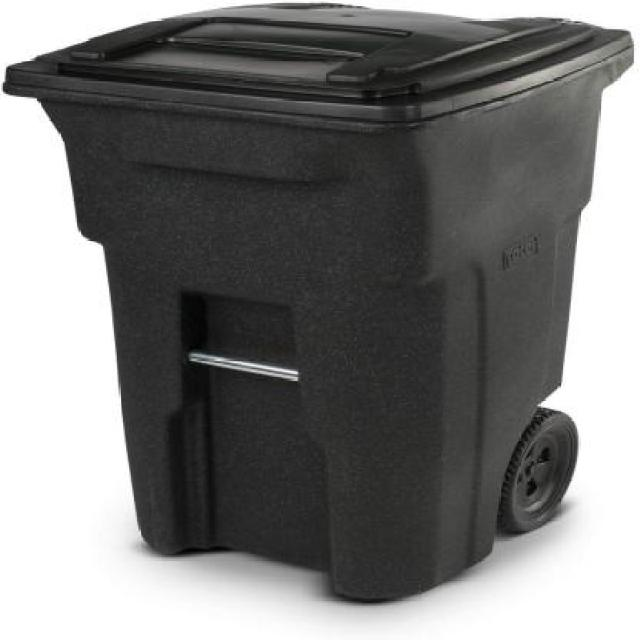garbage container: (1, 1, 639, 610)
